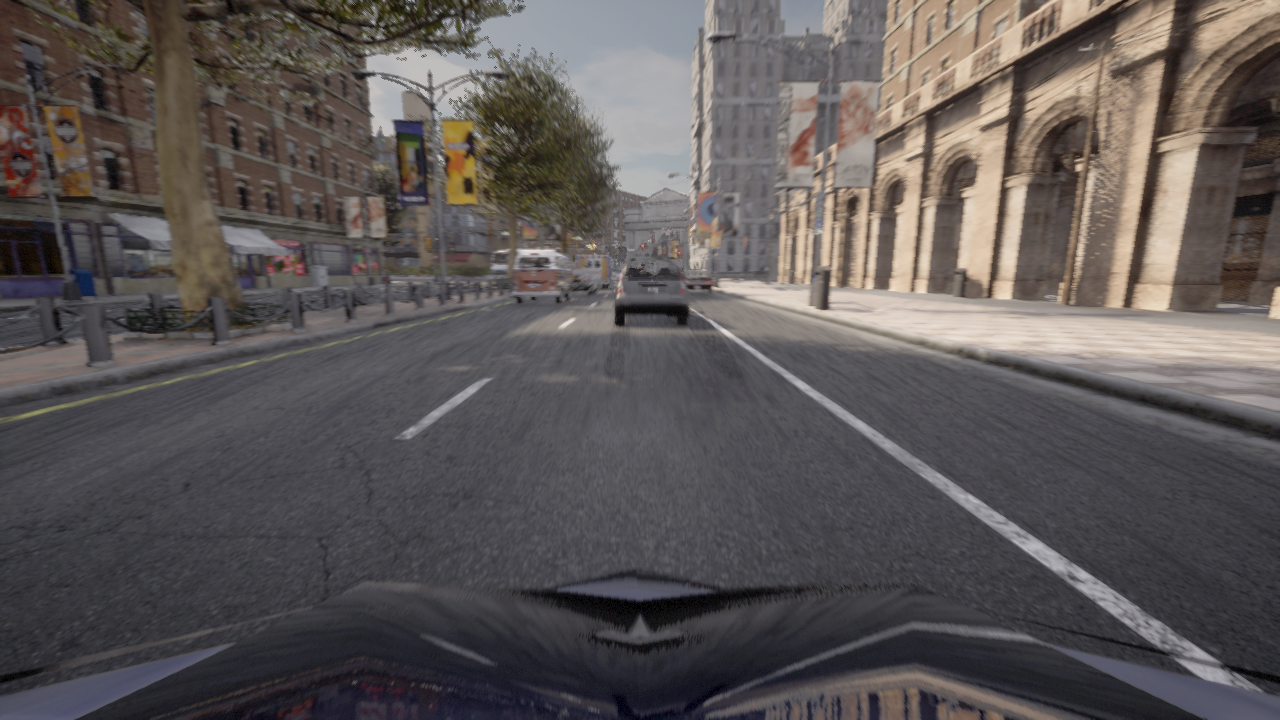cyclist: (0, 569, 1279, 719), (612, 255, 688, 324), (512, 250, 575, 303), (490, 248, 560, 280), (577, 255, 614, 288), (572, 266, 598, 294), (682, 271, 713, 292)
